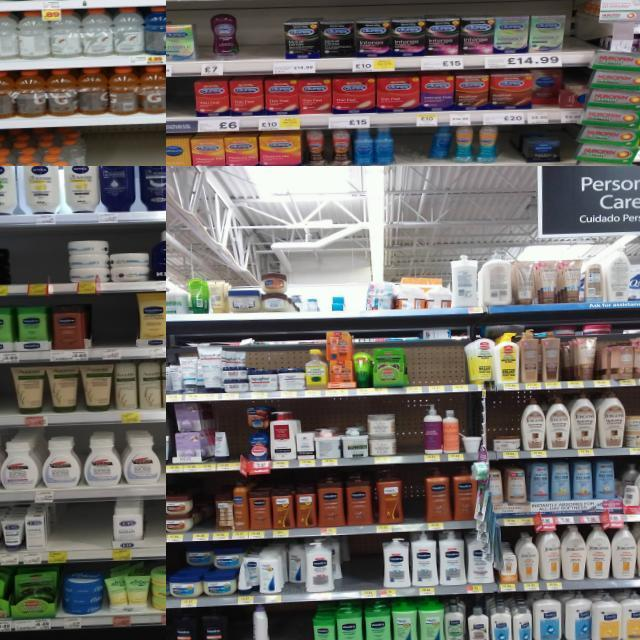Imprecise: (170, 546, 244, 601), (532, 64, 572, 122), (278, 542, 312, 594)
